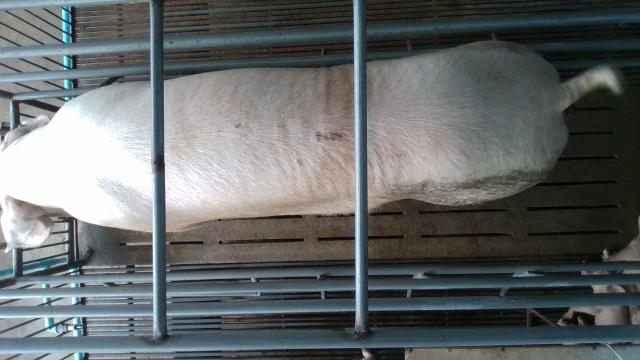piglet: (557, 261, 628, 345)
sow-stand-feed: (0, 39, 622, 253)
